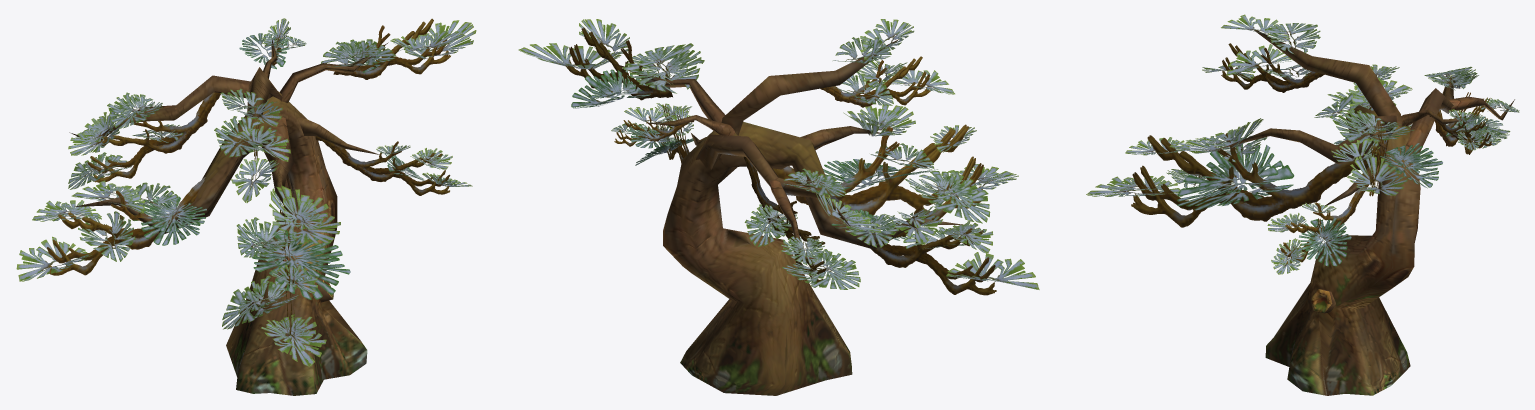
The picture shows the model from 3 angles, left to right: view 1: azimuth 30°, elevation 25°; view 2: azimuth 150°, elevation 25°; view 3: azimuth 270°, elevation 25°; orthographic projection. The views are drawn at different scales.
Parts seen in each view (by area): view 1: MS0002_03_01_2_01, MS0002_03_01_1_01; view 2: MS0002_03_01_2_01, MS0002_03_01_1_01; view 3: MS0002_03_01_2_01, MS0002_03_01_1_01.
Part boxes in pixels (x1=…): MS0002_03_01_2_01: x1=16, y1=18, x2=476, y2=366; MS0002_03_01_1_01: x1=69, y1=36, x2=388, y2=395; MS0002_03_01_2_01: x1=518, y1=19, x2=1039, y2=295; MS0002_03_01_1_01: x1=614, y1=39, x2=963, y2=395; MS0002_03_01_2_01: x1=1086, y1=14, x2=1519, y2=274; MS0002_03_01_1_01: x1=1222, y1=30, x2=1514, y2=395.
Bounding box in the file's own units: 8.57 × 5.16 × 6.75.
